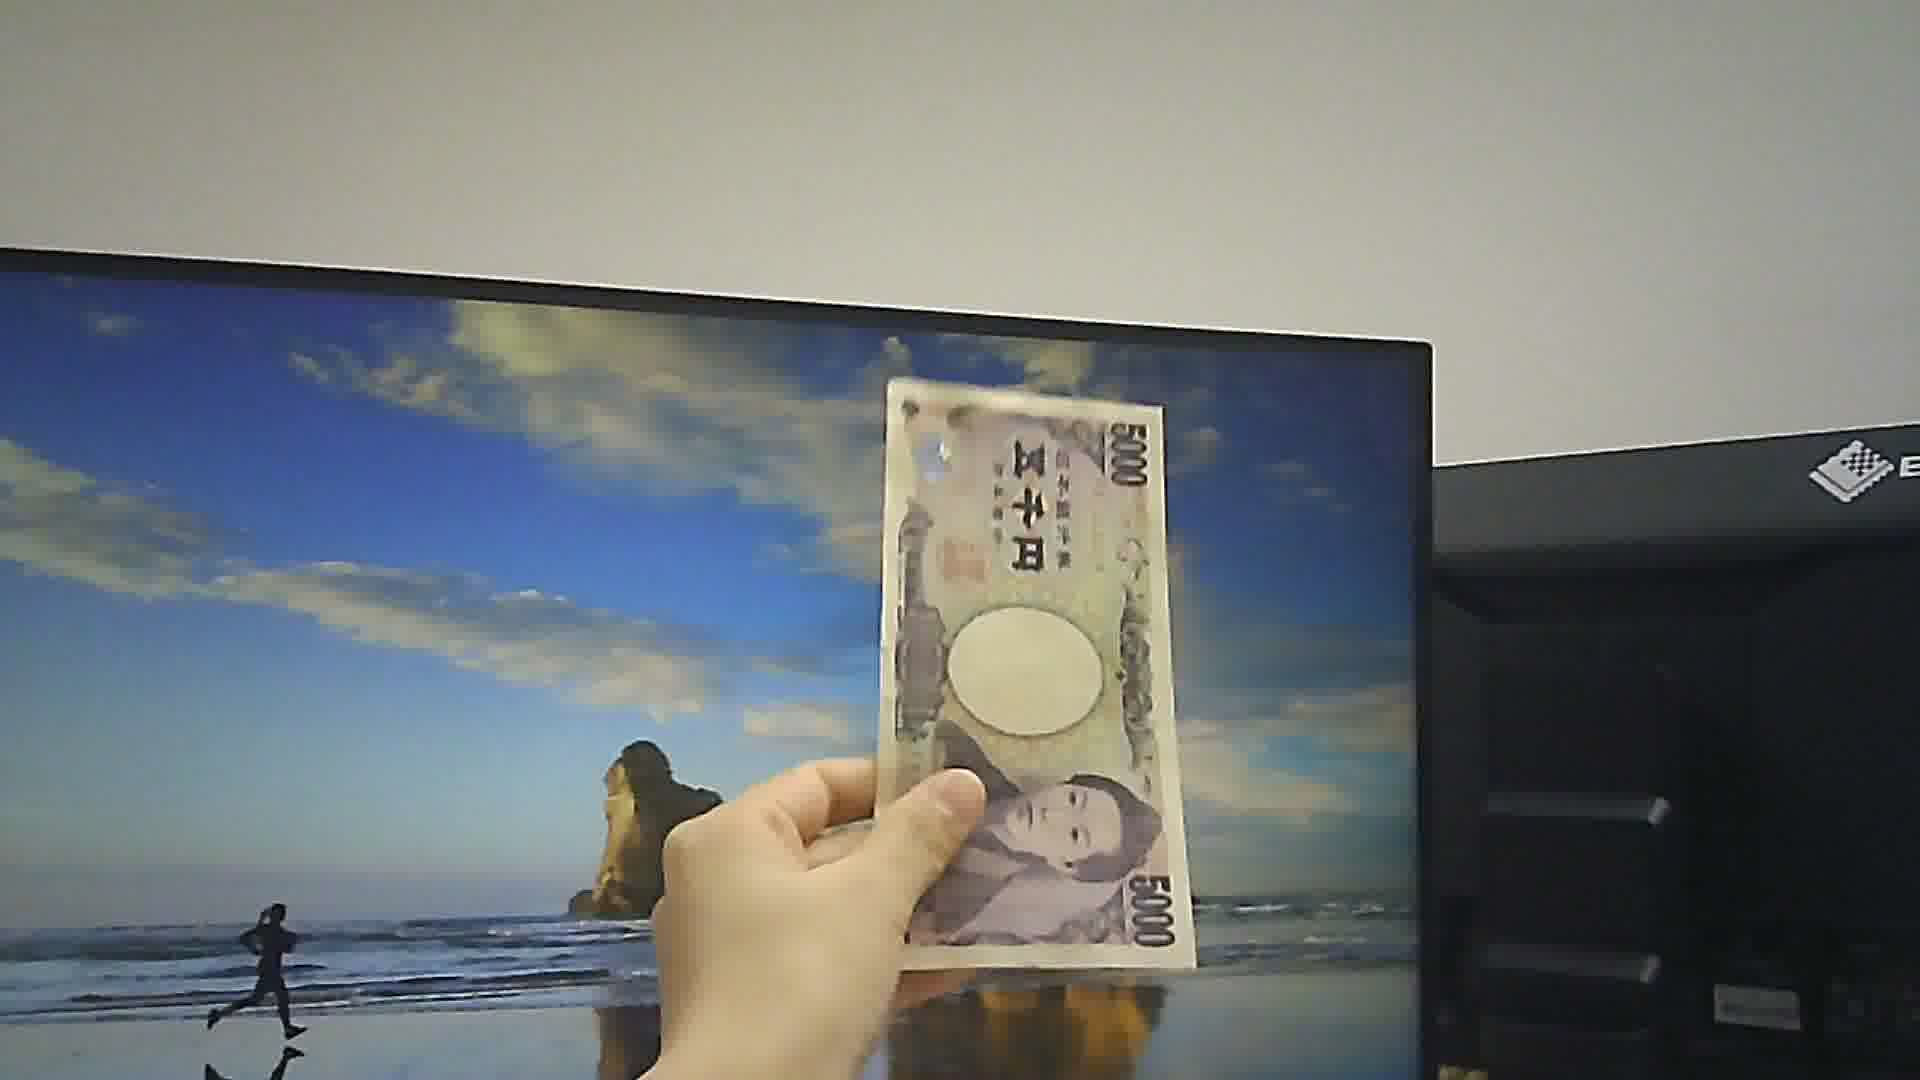5,000 Yen: (861, 369, 1204, 980)
